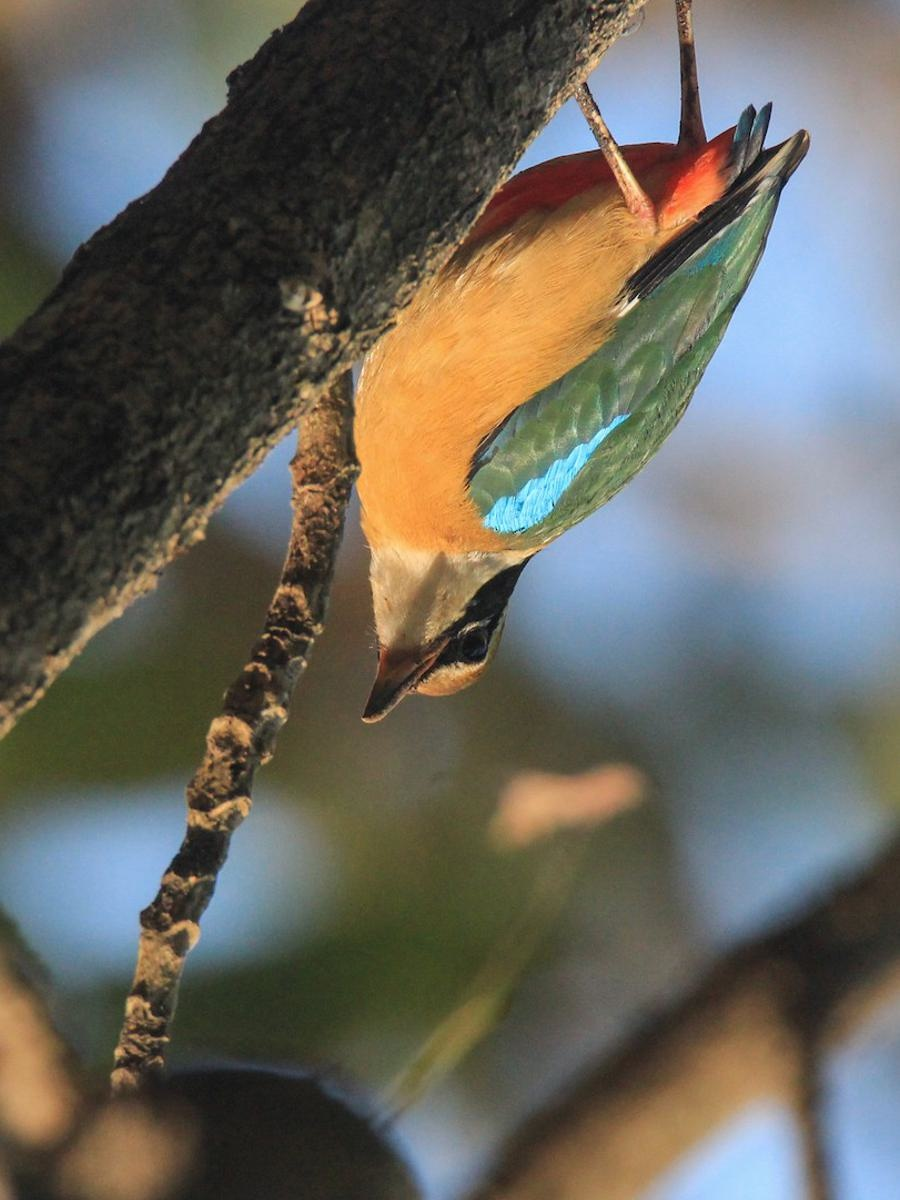pitta: (315, 56, 782, 740)
